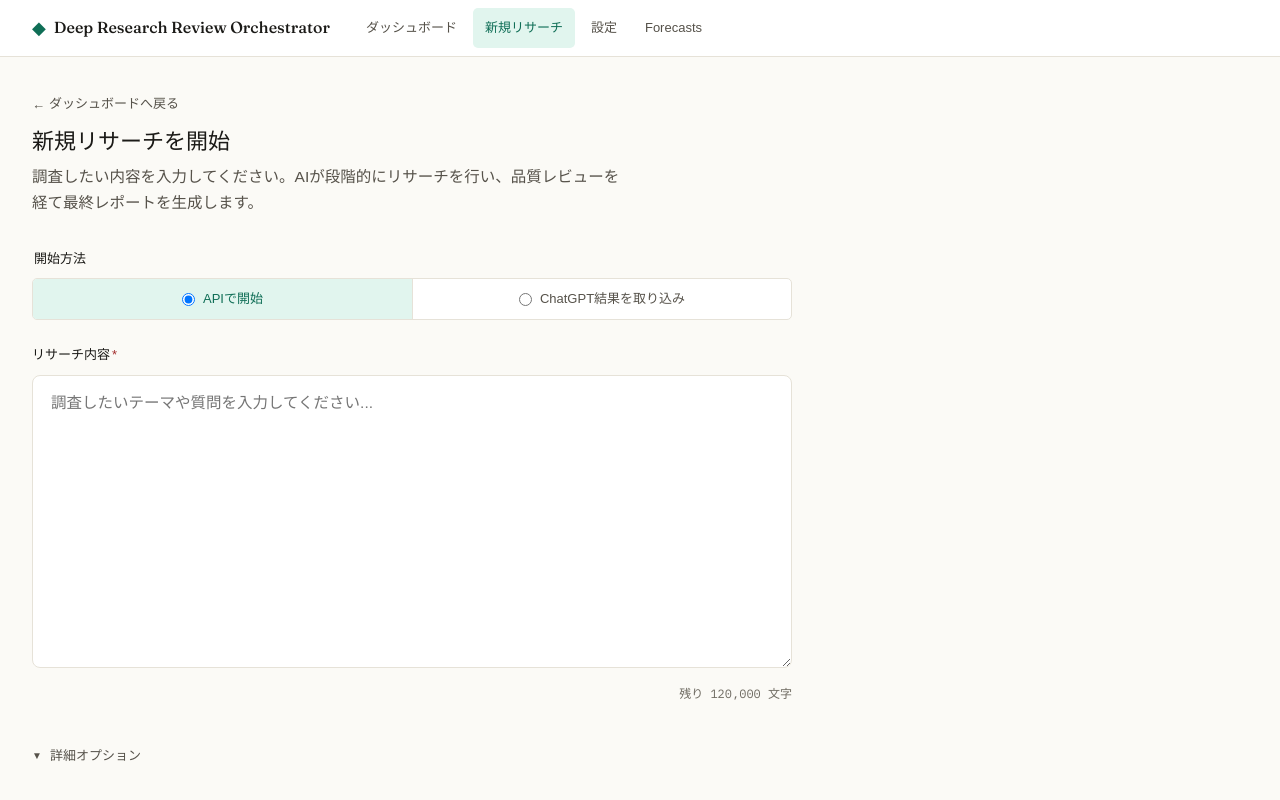
Test: NewResearch (SCR-1) › submits only active API-aligned factory default guardrails
Type "テスト用プロンプト" into the text box labelled "リサーチ内容*" at (412, 521), box x1=32 y1=375 x2=792 y2=668
(page scrolled)
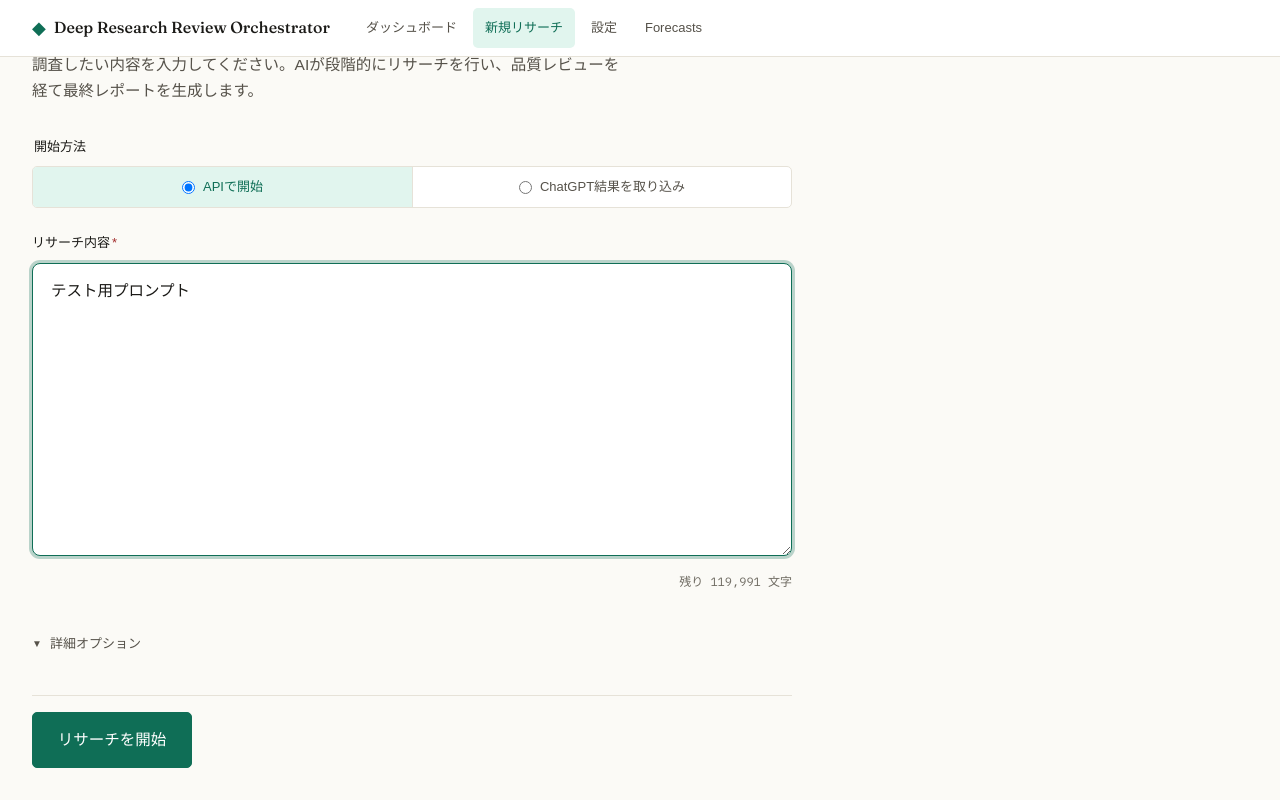
Click the button "リサーチを開始" at (112, 740), box x1=32 y1=712 x2=192 y2=768
(page scrolled)
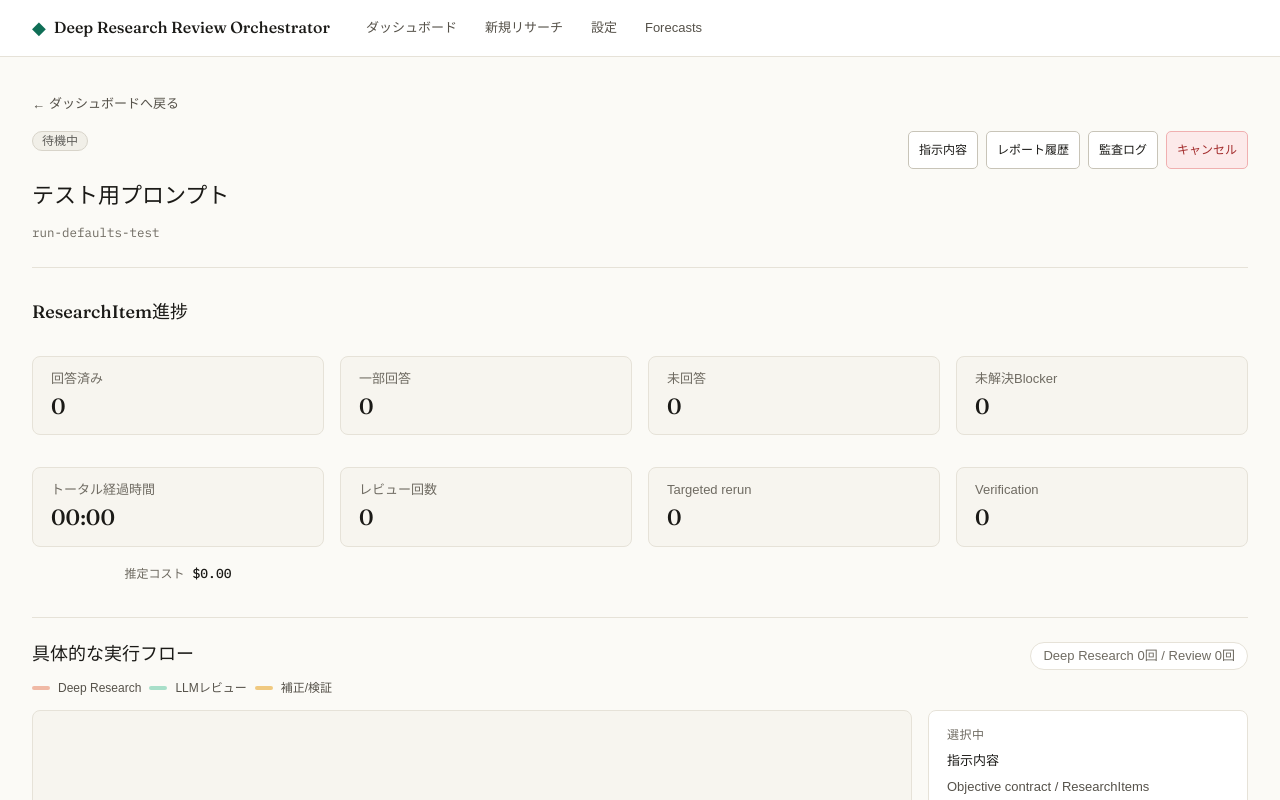
Now the heading "テスト用プロンプト" is shown, box x1=32 y1=182 x2=229 y2=210
